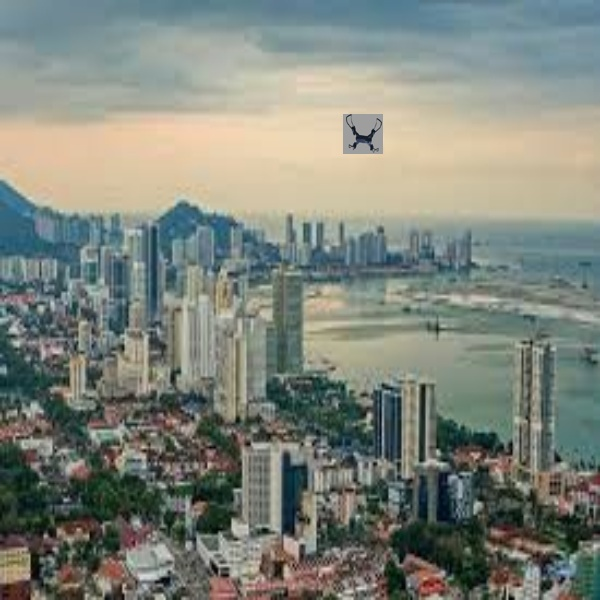drone: (340, 111, 385, 155)
